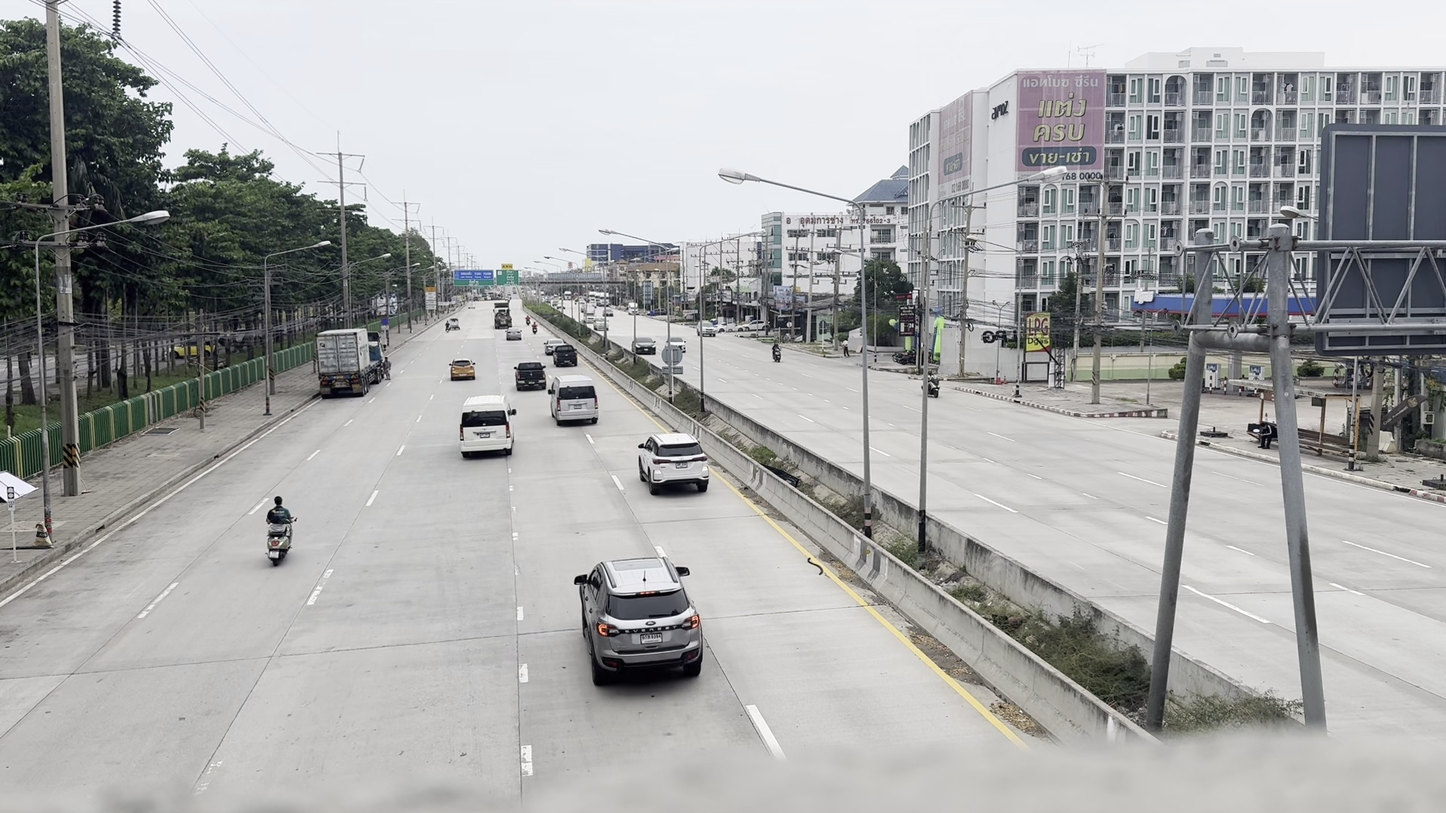bus: (315, 328, 373, 397)
car: (573, 554, 705, 682), (637, 432, 711, 497), (459, 400, 515, 460), (551, 375, 599, 428), (515, 361, 548, 391), (544, 343, 579, 368), (446, 359, 477, 380)
motorbike: (265, 486, 296, 565)
truck: (314, 328, 376, 397)
